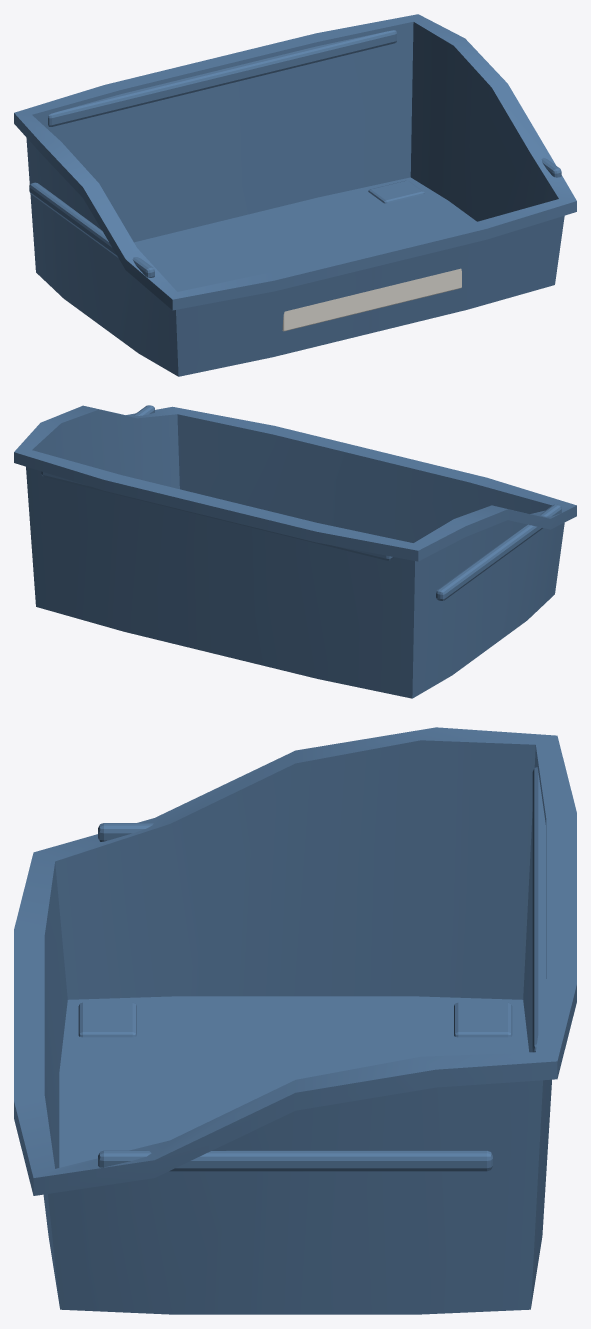
The model's file is bin.glb.
3 views of the same model, one above another, from view 1: azimuth 30°, elevation 25°; view 2: azimuth 150°, elevation 25°; view 3: azimuth 270°, elevation 25° (orthographic). The views are drawn at different scales.
Parts seen in each view (by area): view 1: bin, bin_hanger, bin_label, bin_rails, bin_feet; view 2: bin, bin_rails, bin_hanger; view 3: bin, bin_rails, bin_feet, bin_hanger.
Boxes of the visible parts, x1,y1,x2,y2 form: bin: (14,14,576,376); bin_hanger: (48,30,396,126); bin_label: (282,268,461,331); bin_rails: (29,158,561,277); bin_feet: (368,180,424,203); bin: (14,405,576,698); bin_rails: (134,405,561,600); bin_hanger: (41,471,393,560); bin: (14,727,576,1314); bin_rails: (98,823,492,1171); bin_feet: (78,1002,512,1037); bin_hanger: (532,767,545,1052).
Size of the model in its own units: 0.164 by 0.058 by 0.114.
